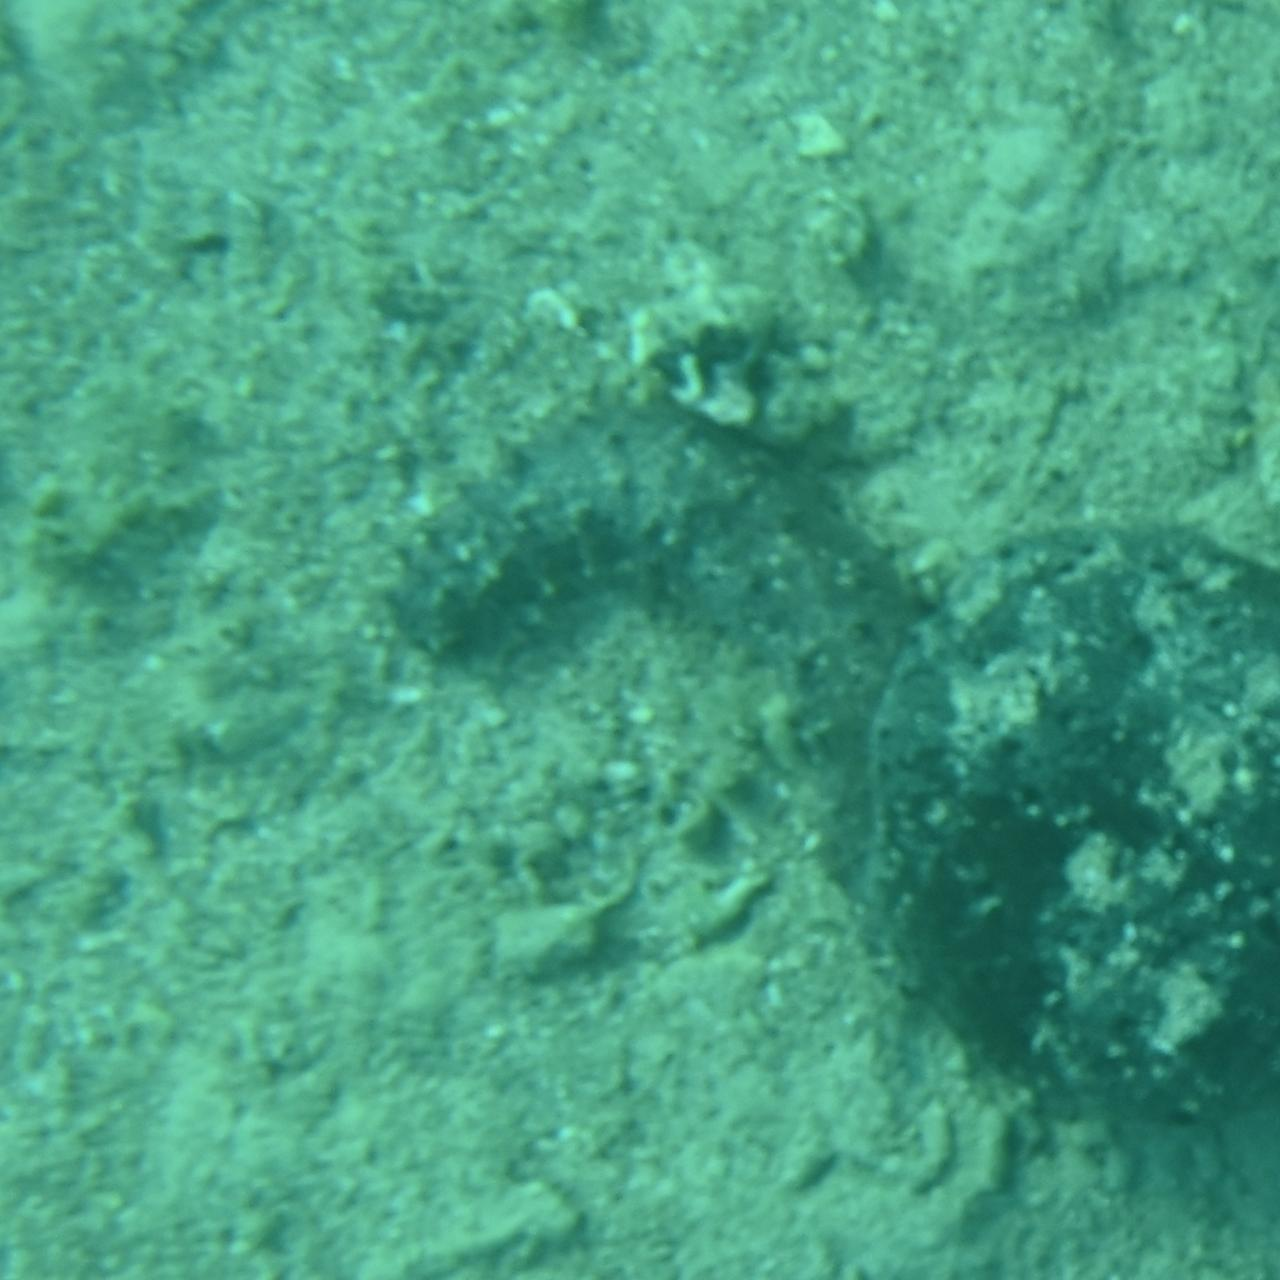Holothuria tubulosa: (374, 386, 906, 894)
